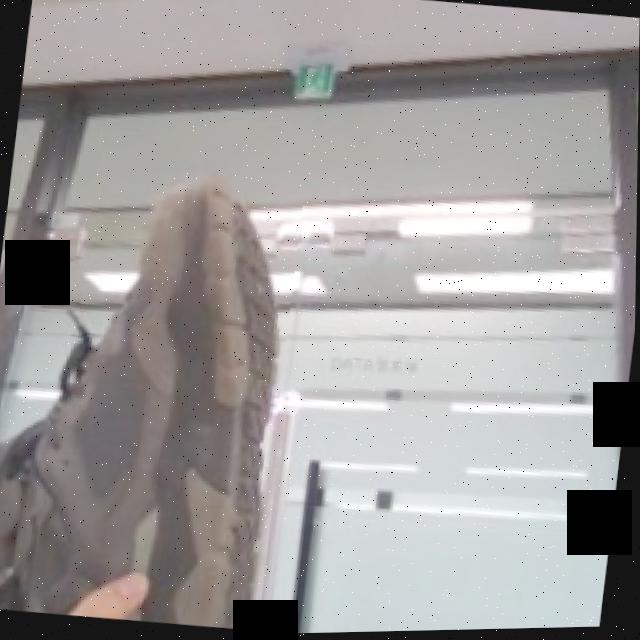shoe: (0, 160, 305, 635)
